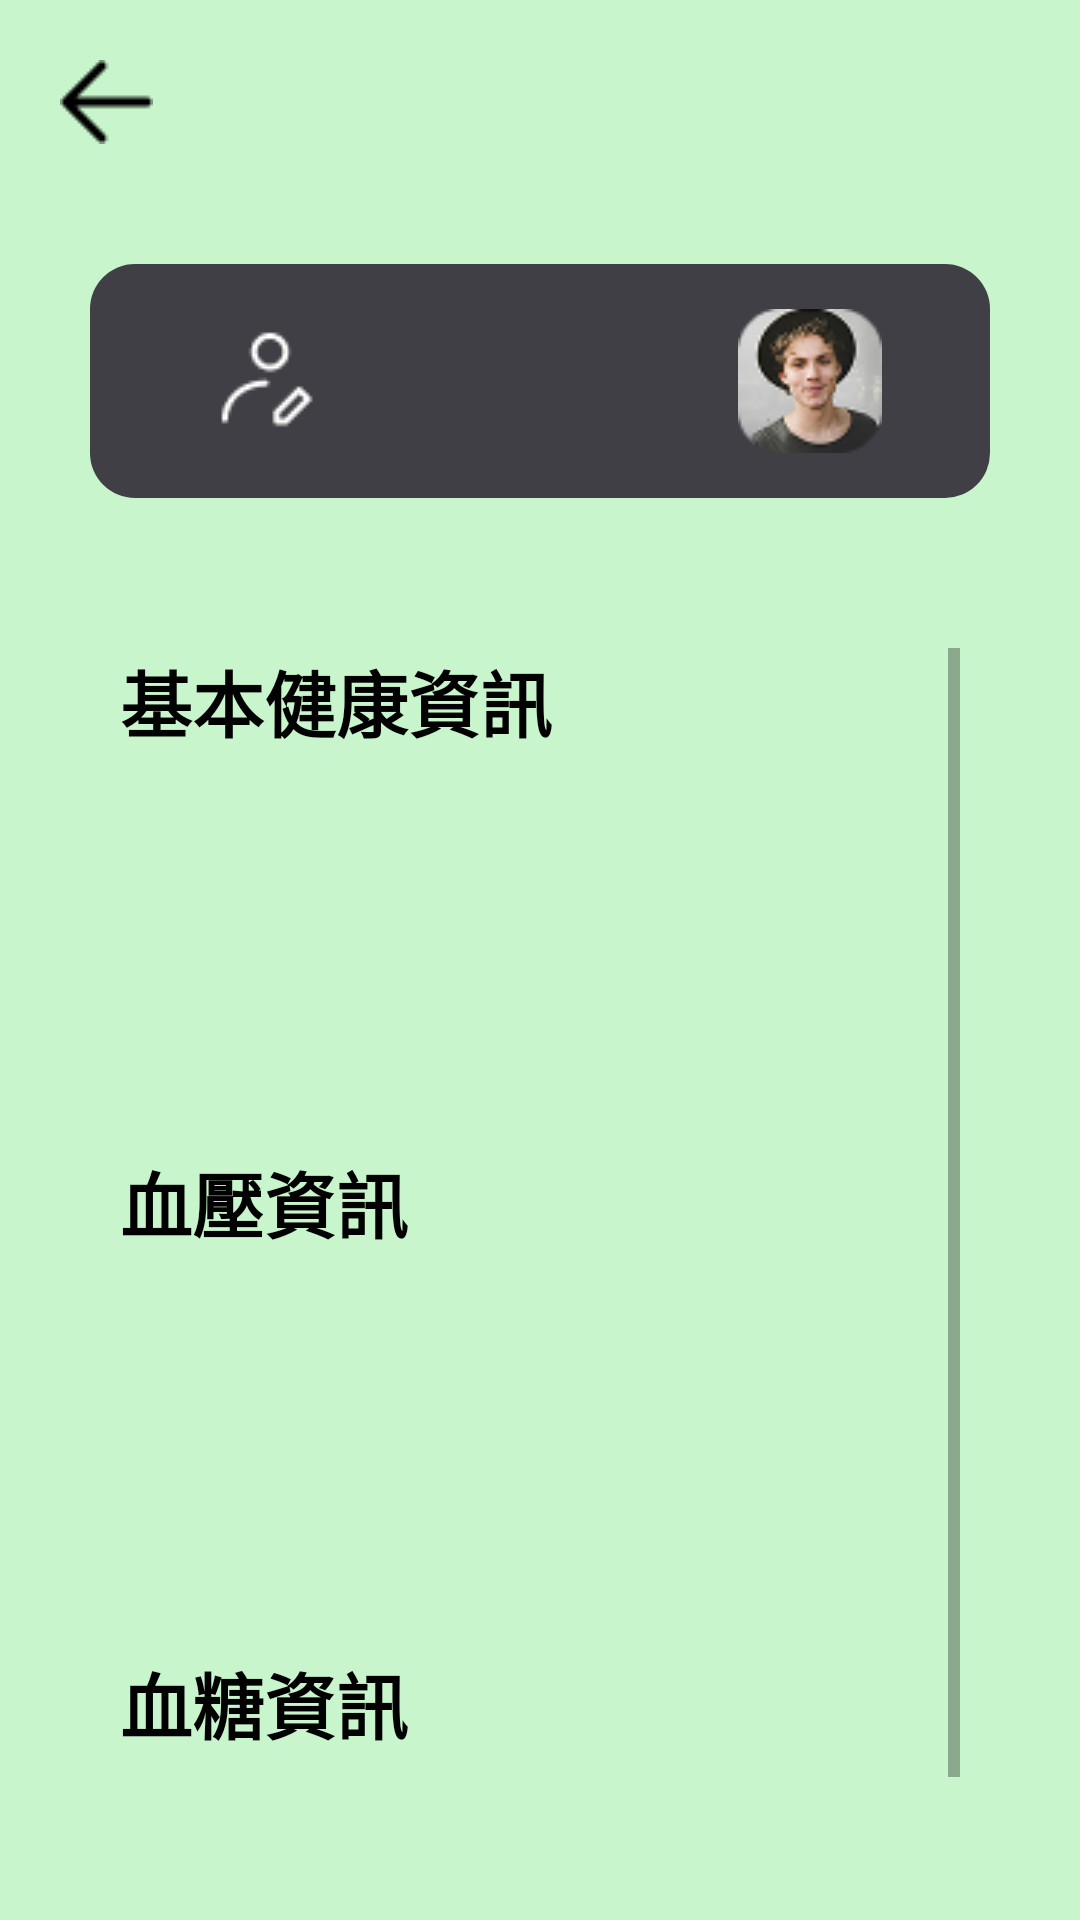

Point at icon controls on the screen. Image size 1080×1920, points as point (x, y).
back: point (106, 102)
user photo: point (810, 381)
